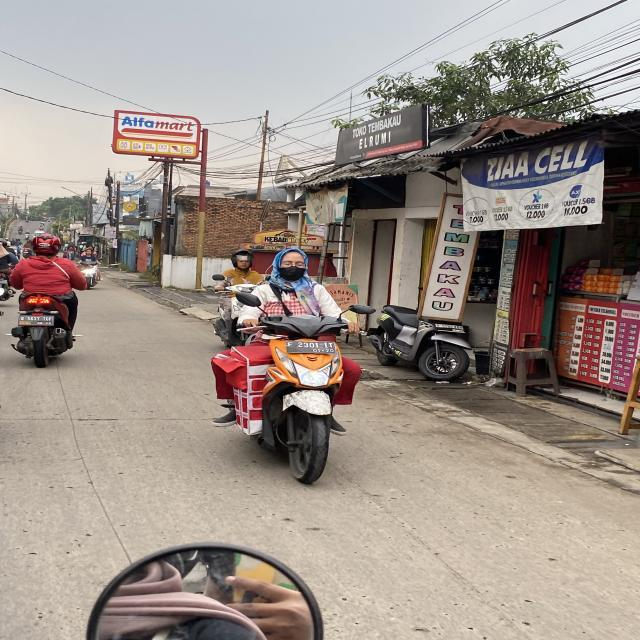Helmet: (32, 233, 60, 255), (231, 249, 251, 267)
Number Plate: (286, 341, 336, 354), (18, 314, 54, 326)
Rearview Mirror: (87, 544, 322, 639), (236, 291, 261, 306), (348, 304, 375, 314), (211, 274, 224, 280)
